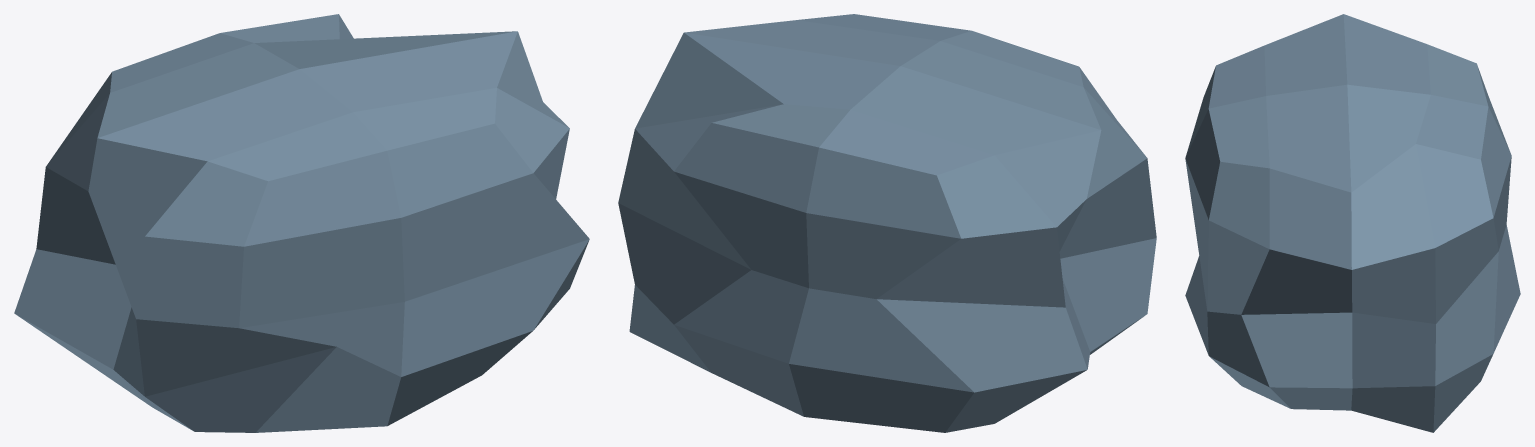
File: Stone (4).fbx
3 renders of one model, left to right at view 1: azimuth 30°, elevation 25°; view 2: azimuth 150°, elevation 25°; view 3: azimuth 270°, elevation 25°, orthographic. The views are drawn at different scales.
Visible parts, largest first — view 1: Rock 4; view 2: Rock 4; view 3: Rock 4.
Boxes of the visible parts, box(x1,y1,x2,y2) form: Rock 4: box(14, 14, 589, 432); Rock 4: box(618, 14, 1156, 432); Rock 4: box(1185, 14, 1520, 432).
Bounding box in the file's own units: 1636 × 1040 × 1137.
